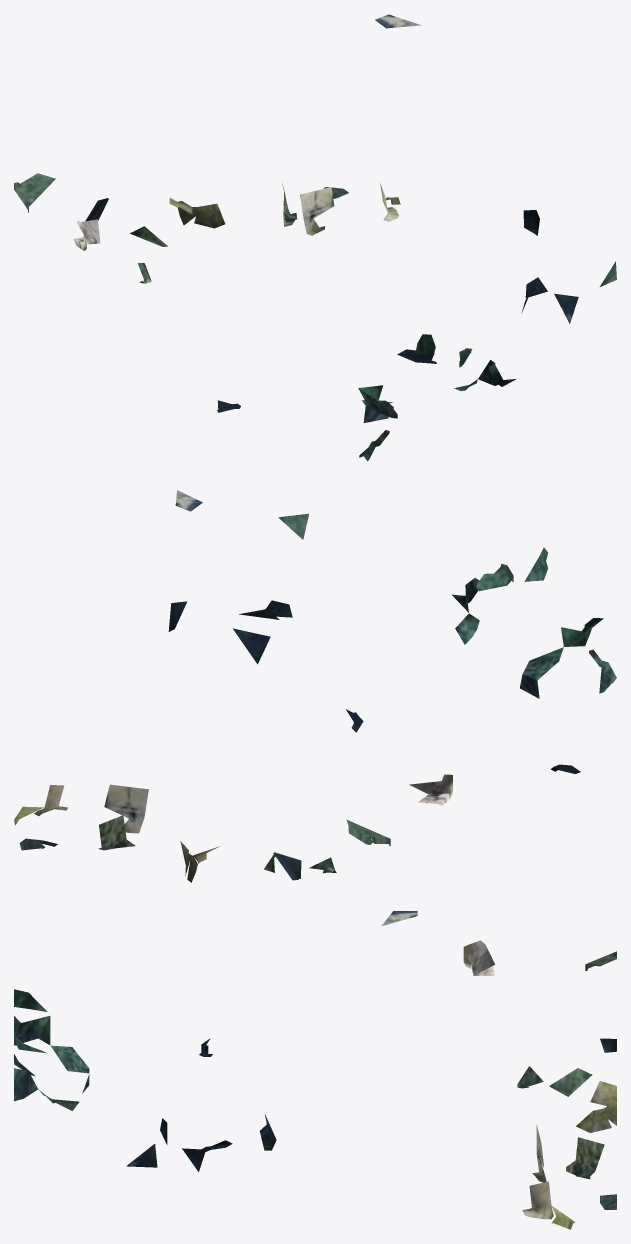
3 renders of one model, top to bottom at view 1: azimuth 30°, elevation 25°; view 2: azimuth 150°, elevation 25°; view 3: azimuth 270°, elevation 25°, orthographic. The views are drawn at different scales.
Visible parts, largest first — view 1: 30436272704370437607_1; view 2: 30436272704370437607_1; view 3: 30436272704370437607_1.
Part boxes in pixels (x1,y1,x2,y2): 30436272704370437607_1: (14, 14, 616, 461); 30436272704370437607_1: (14, 490, 616, 882); 30436272704370437607_1: (14, 911, 616, 1229).
Size of the model in its own units: 27.32 by 19.26 by 38.26.
Materials: 1 (1 with a texture image).
